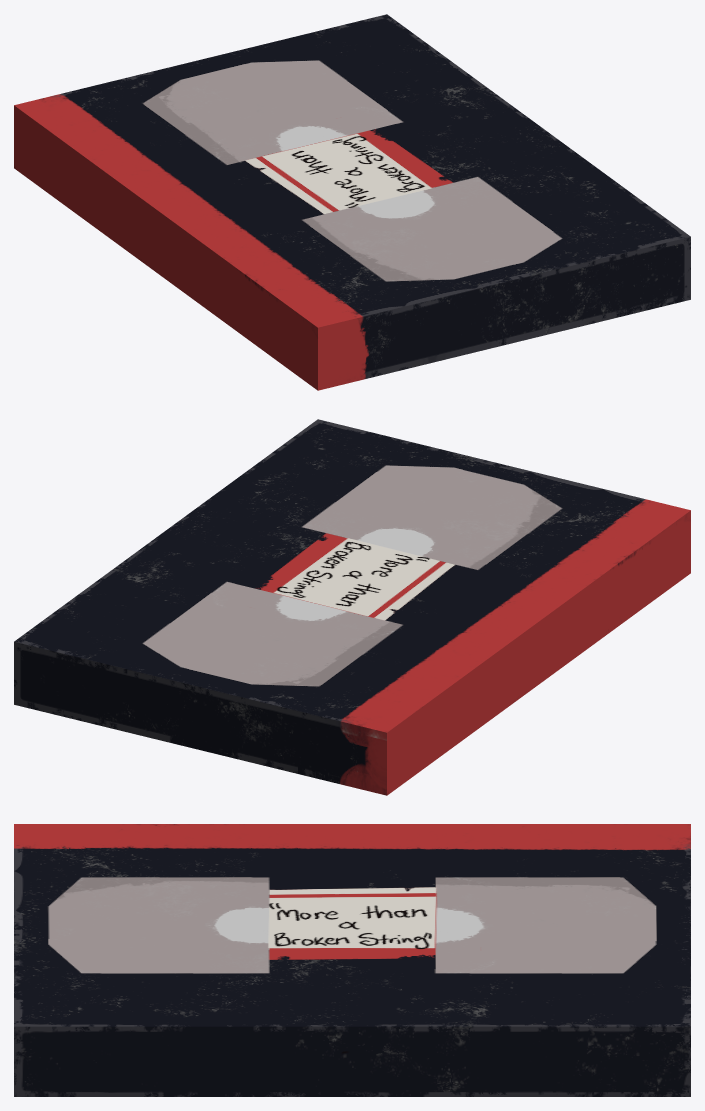
Rendered from VHS_Tape_Broken String.fbx.
3 renders of one model, top to bottom at view 1: azimuth 30°, elevation 25°; view 2: azimuth 150°, elevation 25°; view 3: azimuth 270°, elevation 25°, orthographic. The views are drawn at different scales.
Parts seen in each view (by area): view 1: VHS_01; view 2: VHS_01; view 3: VHS_01.
Boxes of the visible parts, <box> form: VHS_01: <box>14,14,690,390</box>; VHS_01: <box>14,419,690,795</box>; VHS_01: <box>14,824,690,1096</box>.
Size of the model in its own units: 0.4127 by 0.0666 by 0.5824.
Materials: 1 (1 with a texture image).
